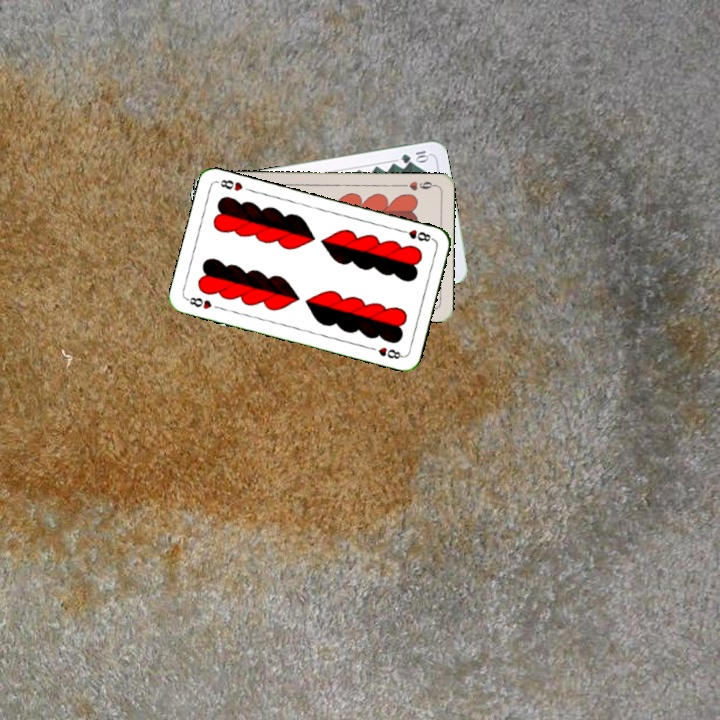G10: (397, 146, 431, 166)
H8: (396, 226, 436, 244), (183, 293, 214, 312)
H9: (398, 177, 438, 193)
